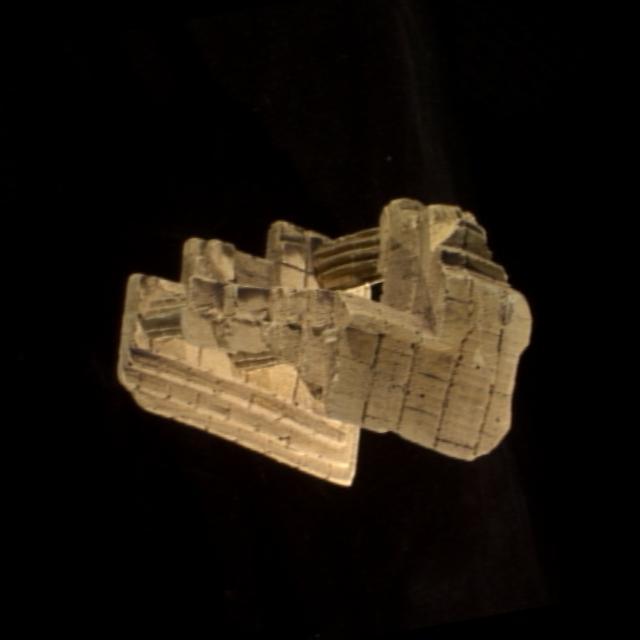Instance-Segmentation: (116, 197, 529, 483)
